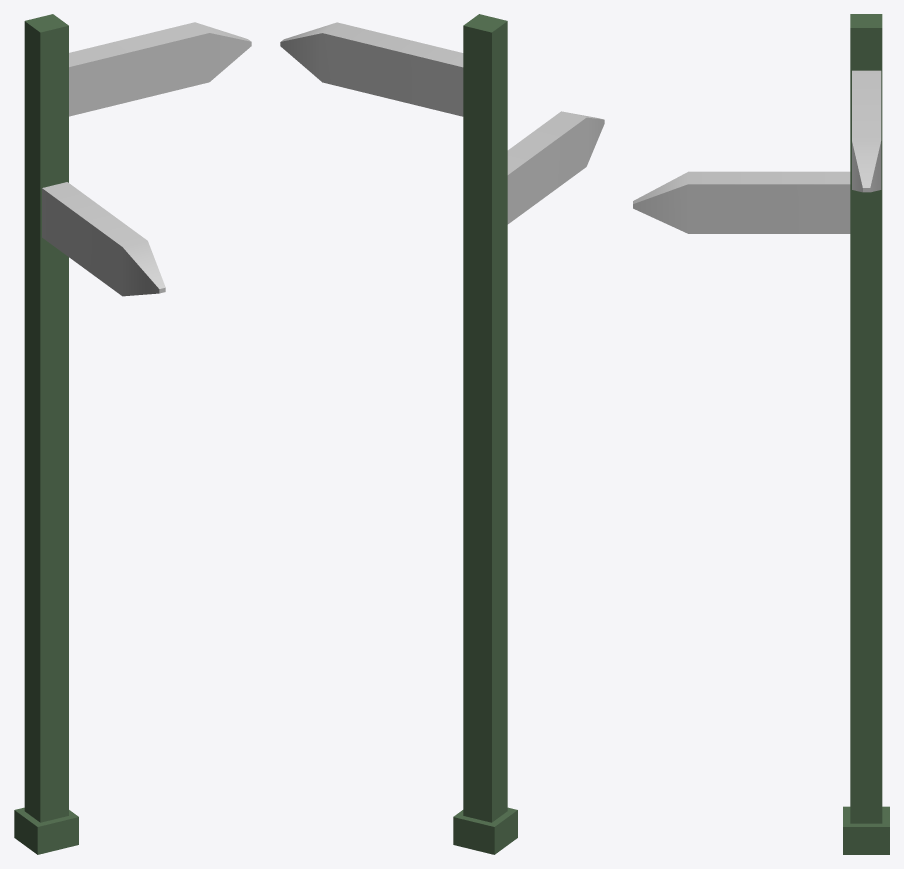
Rendered from directional sign.fbx.
The picture shows the model from 3 angles, left to right: view 1: azimuth 30°, elevation 25°; view 2: azimuth 150°, elevation 25°; view 3: azimuth 270°, elevation 25°; orthographic projection.
Visible parts, largest first — view 1: pCube1, pCube2, pCube3; view 2: pCube1, pCube2, pCube3; view 3: pCube1, pCube3, pCube2.
Boxes of the visible parts, x1,y1,x2,y2 form: pCube1: (14,14,78,854); pCube2: (69,22,251,116); pCube3: (42,182,165,296); pCube1: (453,14,517,854); pCube2: (280,22,463,116); pCube3: (507,111,604,224); pCube1: (843,14,889,854); pCube3: (633,171,850,233); pCube2: (852,70,881,192).
Size of the model in its own units: 4.72 by 16.47 by 4.65.
